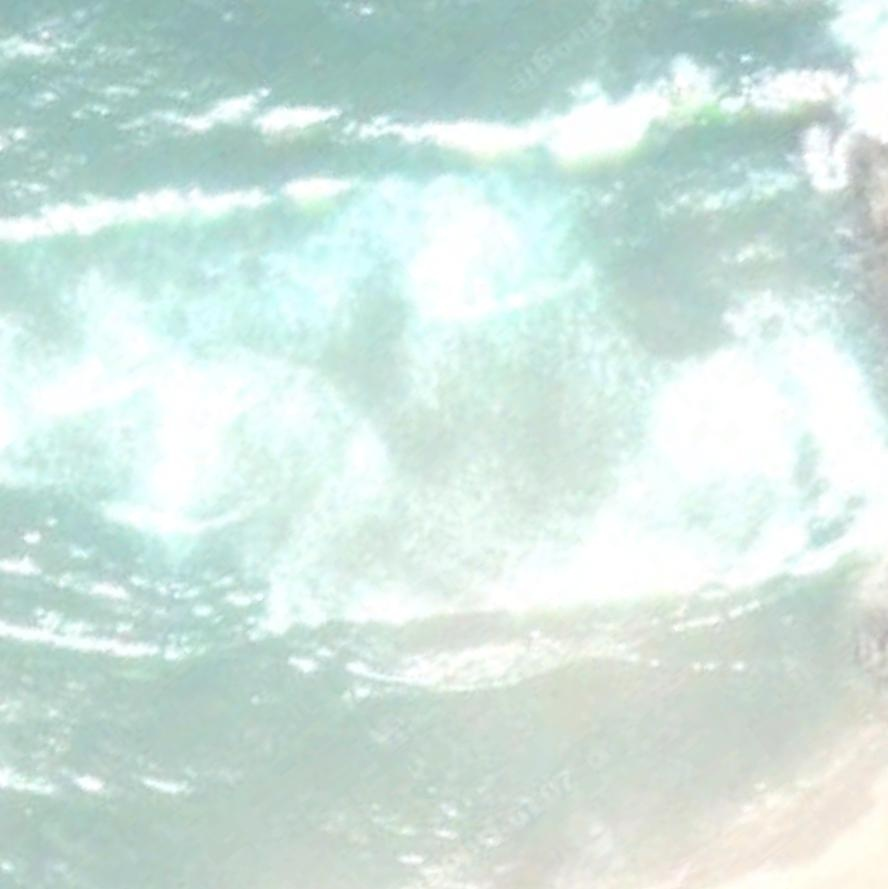rip_current: (229, 246, 522, 617)
